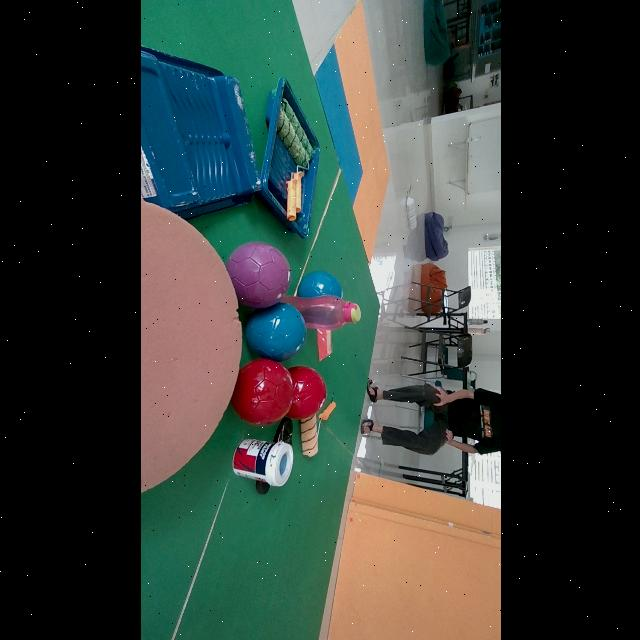B: (244, 302, 305, 362), (296, 271, 341, 299)
P: (224, 242, 290, 309)
R: (230, 360, 292, 426), (285, 367, 326, 419)
